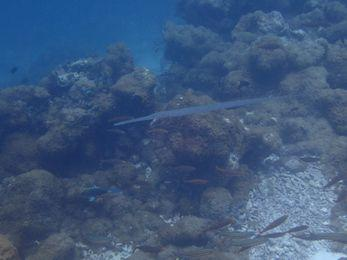Fistularia commersonii: (84, 76, 303, 136)
